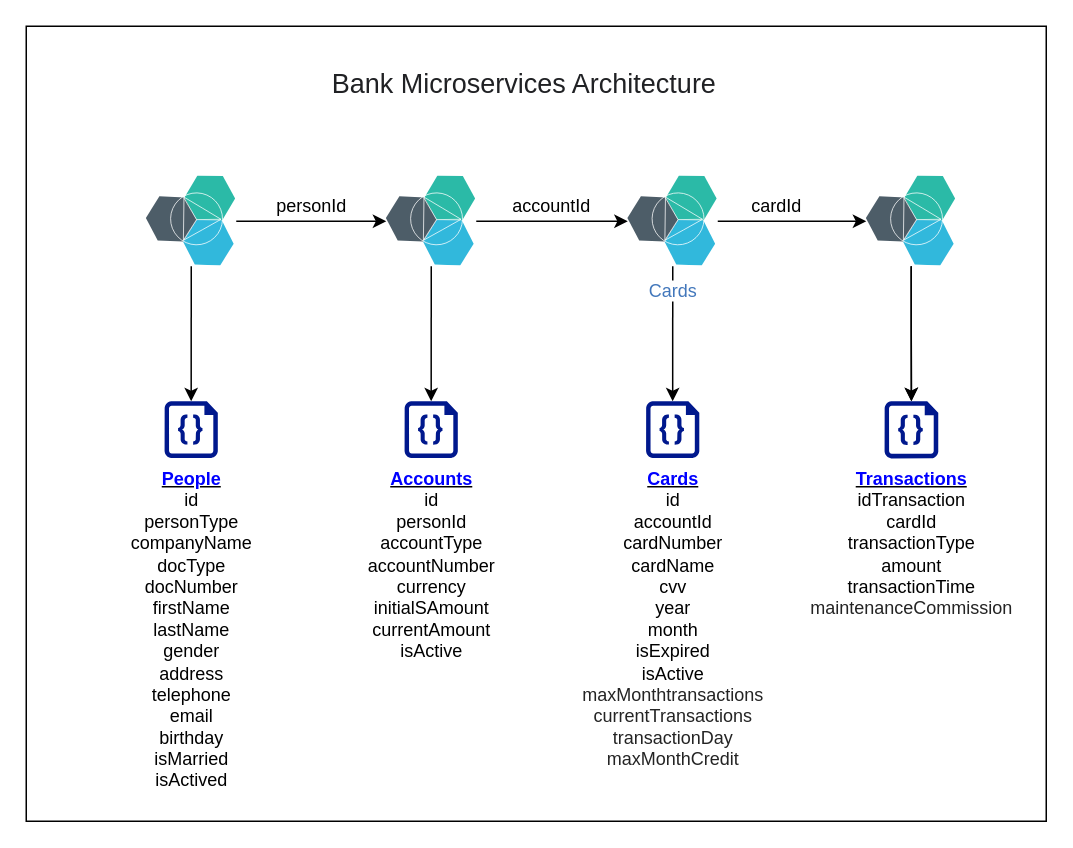
The diagram is 1073 pixels wide and 848 high, and some of its shapes have lost their labels. The shapes that lost their labels are listed below. From the top down, each one's centre as x and y in pixels, then its label:
At point 191,221: "People".
At point 431,221: "Accounts".
At point 911,221: "Transactions".
